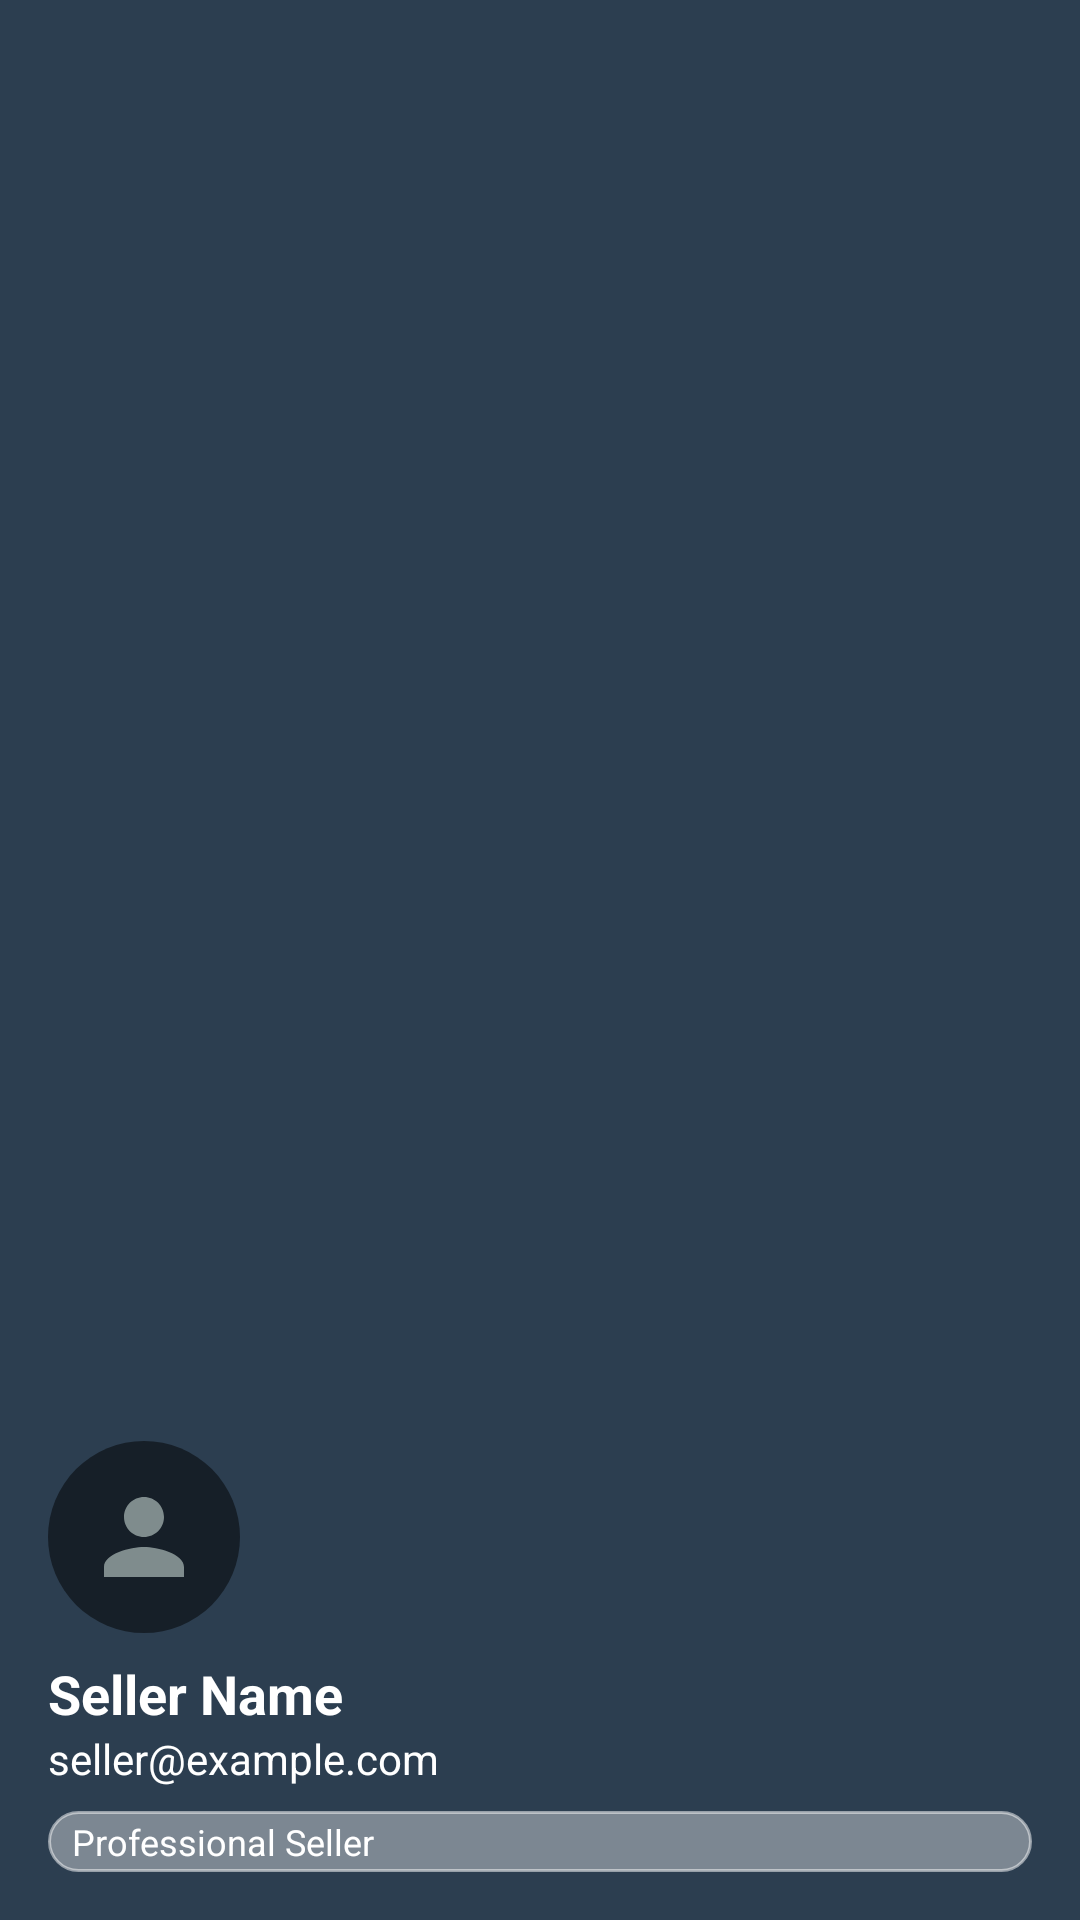

Icons on this 1080*1920 Android screen, each with its box as (x1, y1, x2, y2):
profile: (48, 1441, 240, 1633)
